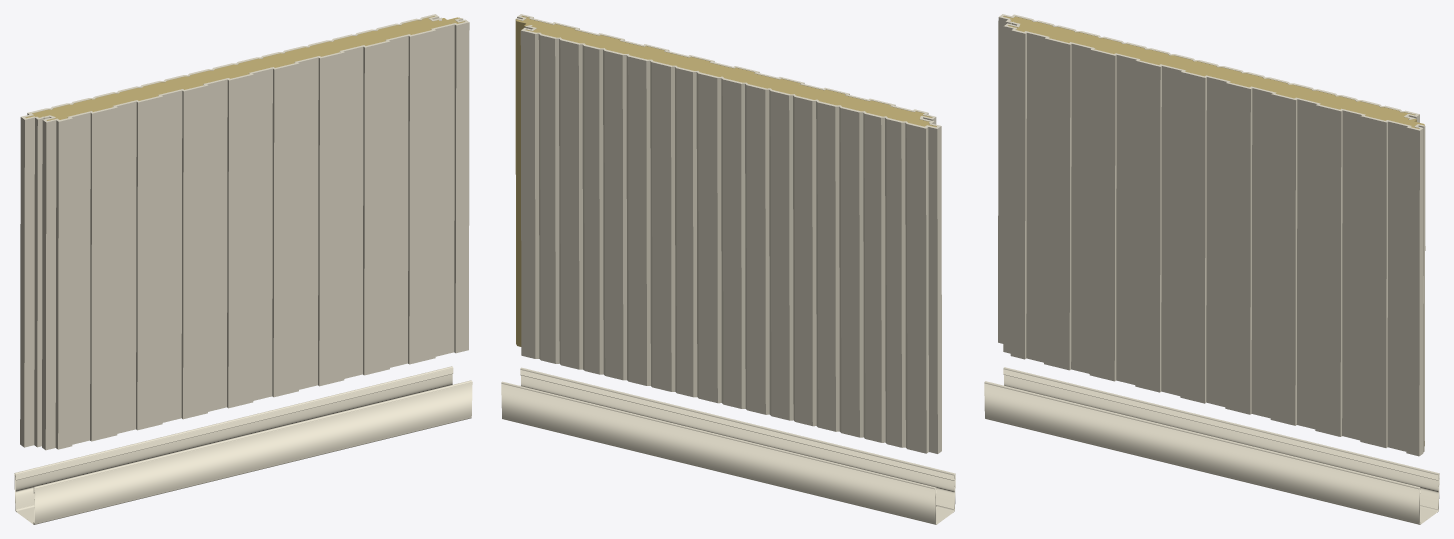
File: canal_u_pintro_lamina.glb
The picture shows the model from 3 angles, left to right: view 1: azimuth 30°, elevation 25°; view 2: azimuth 150°, elevation 25°; view 3: azimuth 330°, elevation 25°; orthographic projection.
Parts seen in each view (by area): view 1: Cube.003, Cube; view 2: Cube.003, Cube; view 3: Cube.003, Cube.
Part boxes in pixels (x1=…): Cube.003: x1=20, y1=14, x2=469, y2=450; Cube: x1=14, y1=366, x2=472, y2=524; Cube.003: x1=515, y1=14, x2=941, y2=453; Cube: x1=501, y1=367, x2=955, y2=524; Cube.003: x1=998, y1=14, x2=1425, y2=456; Cube: x1=984, y1=367, x2=1439, y2=524.
Bounding box in the file's own units: 5.62 × 4.87 × 0.4669.
